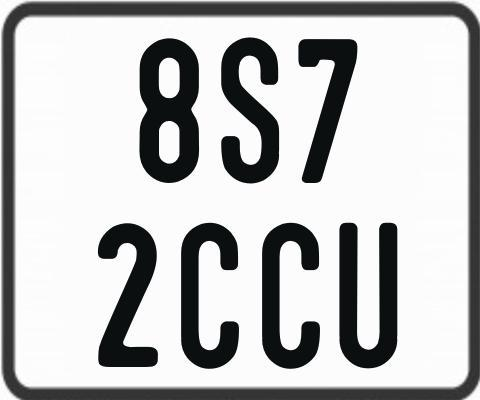2: (98, 222, 158, 372)
7: (298, 36, 363, 184)
8: (138, 35, 203, 184)
C: (181, 221, 240, 371), (259, 223, 317, 373)
S: (220, 36, 282, 187)
U: (339, 222, 402, 371)
